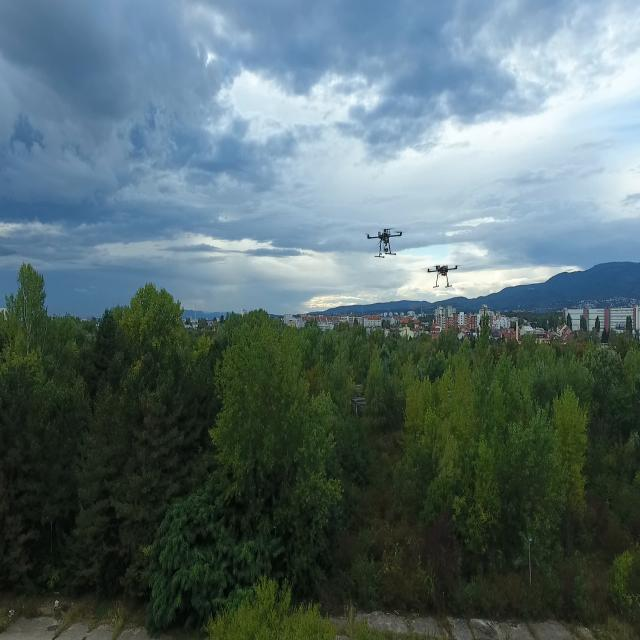UAV: (413, 256, 470, 290), (358, 223, 411, 258)
